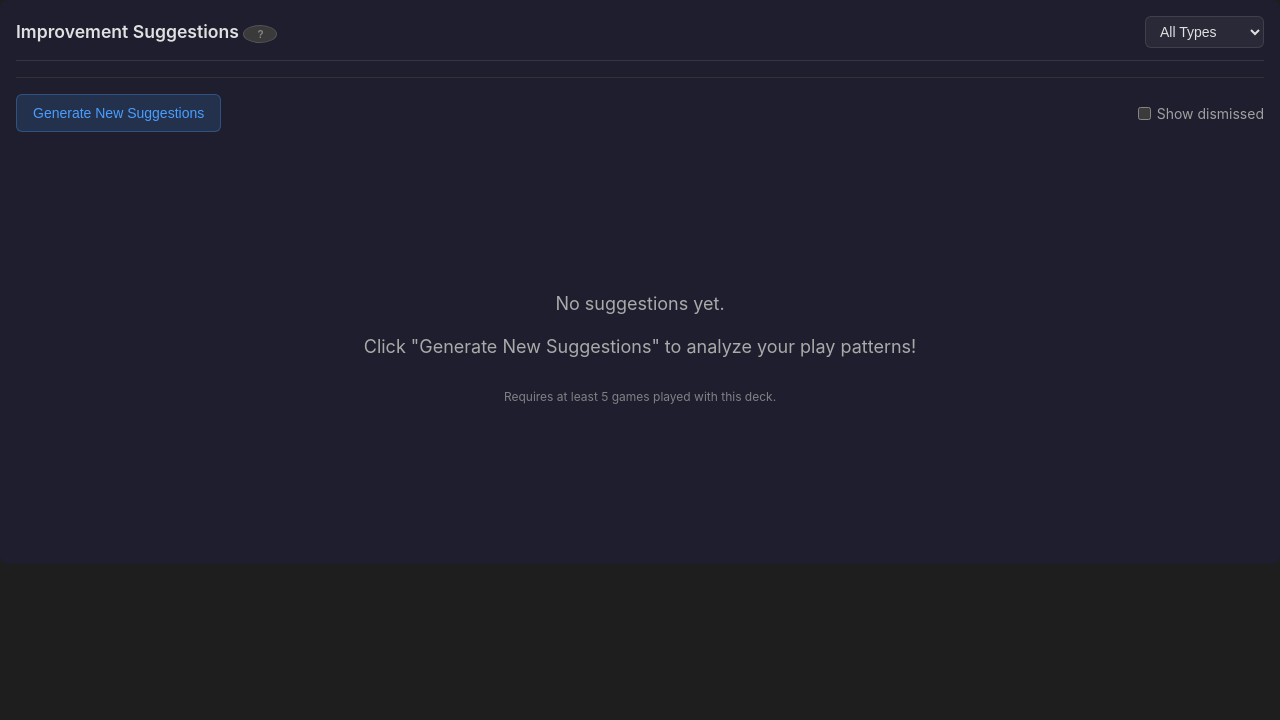
it: ImprovementSuggestionsPanel › Generate Suggestions › should show error when insufficient games
Click the button "Generate New Suggestions" at point(119, 113), box [16,94,221,132]
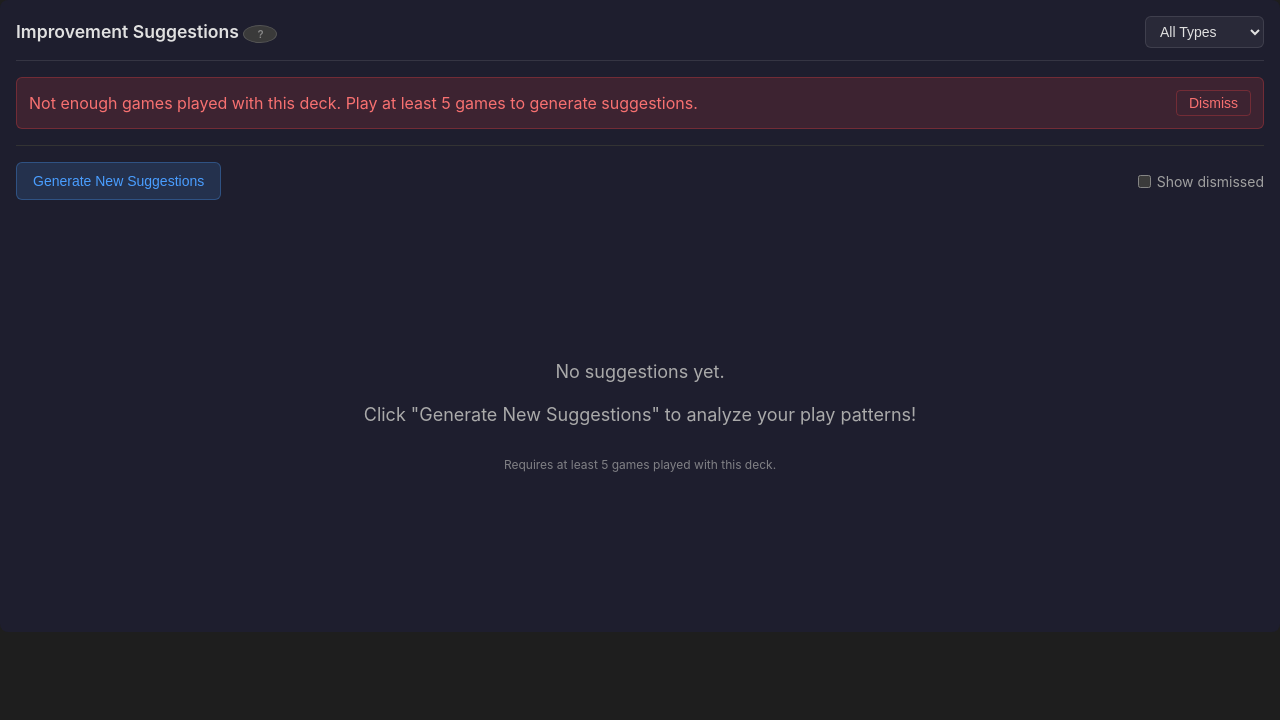
Result: the text "Not enough games played" is shown at [29,93,698,113]
